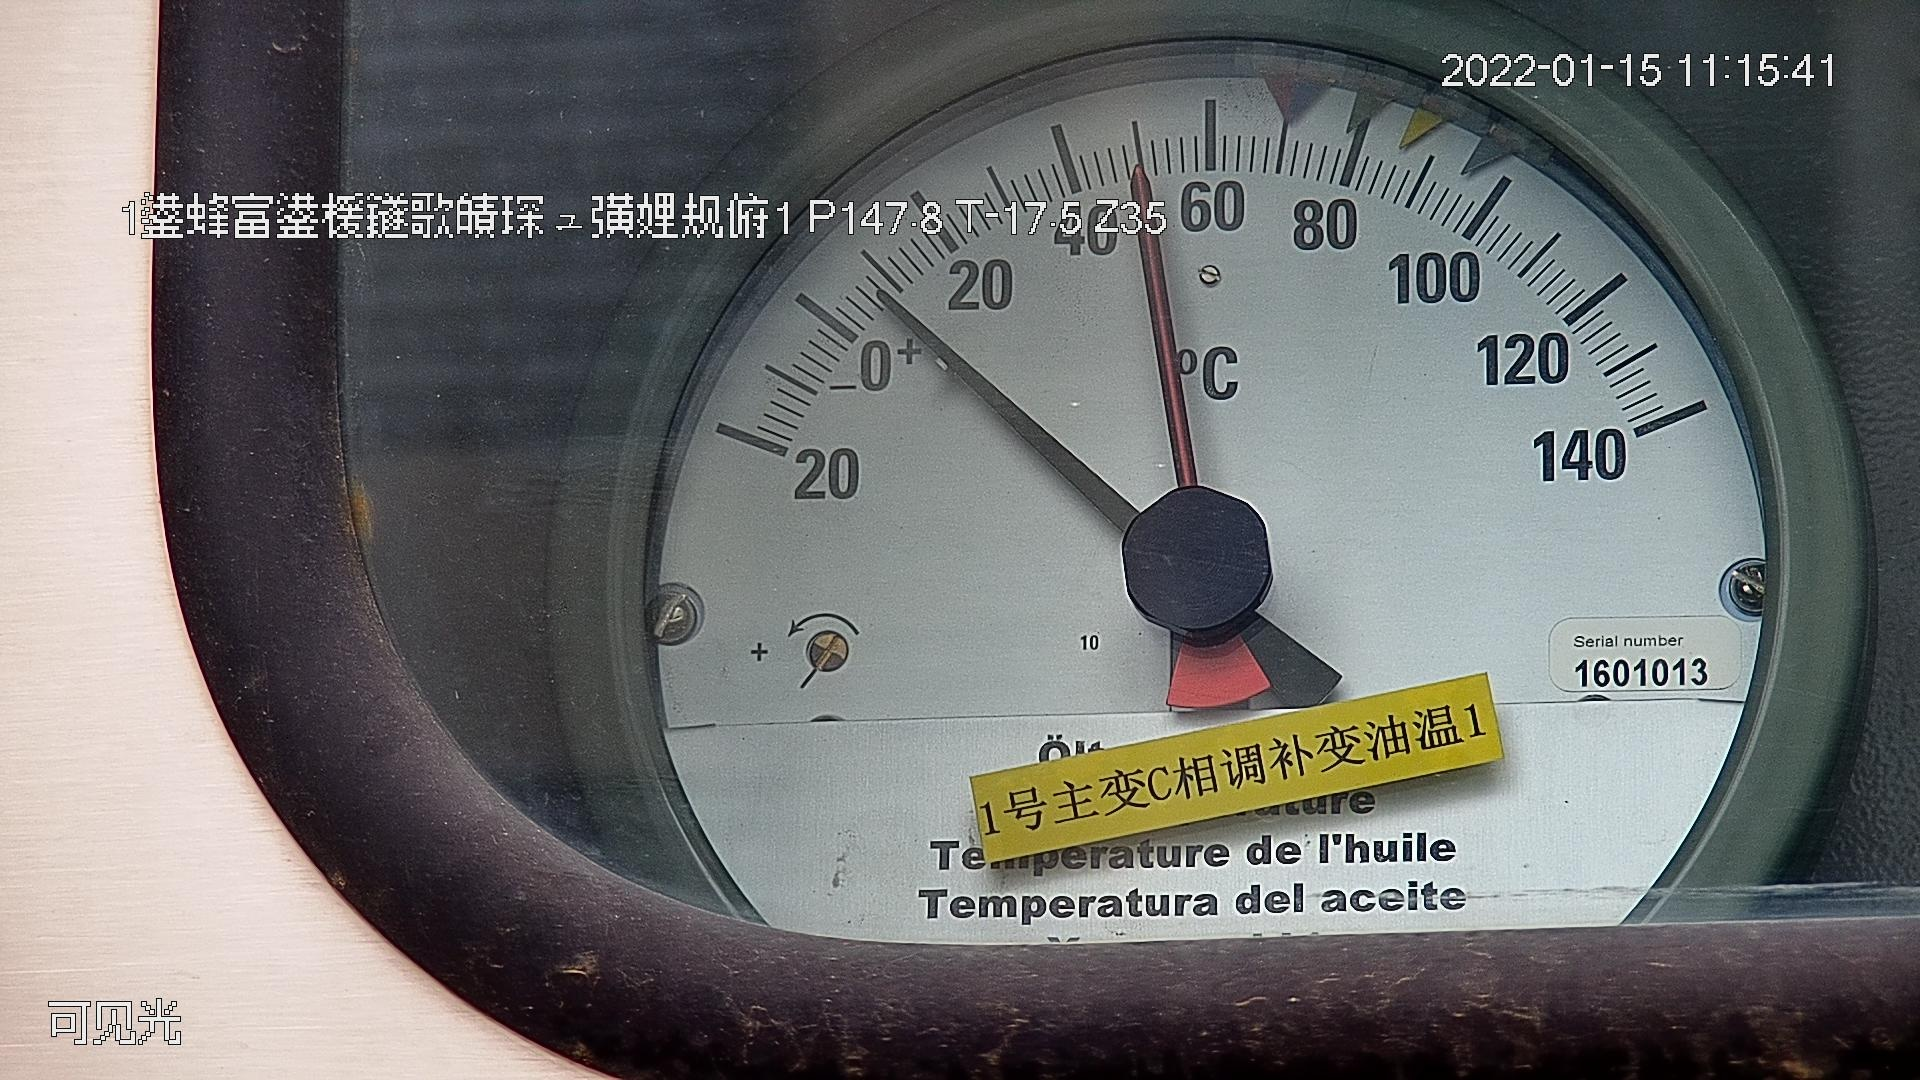yibiao: (596, 26, 1787, 920)
